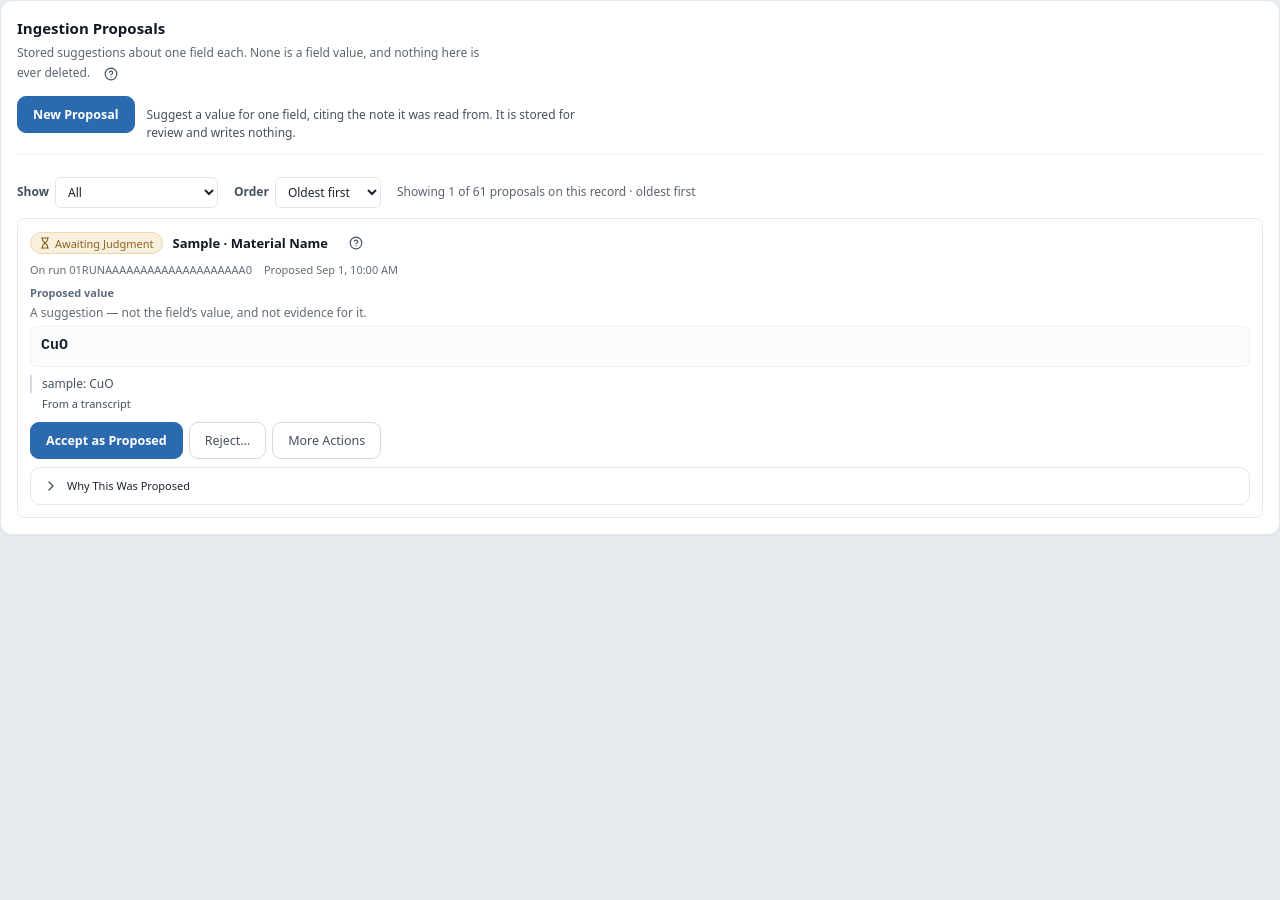
Scenario: a failed view change is named as unapplied for every view dimension › DEFECT/COVERAGE: a FILTER change whose read fails says it was never applied, not that it is stale
The image size is (1280, 900).
Expected: the text "Showing 1 of 61 proposals on this record · oldest first" is shown, [397, 184, 696, 202]
Select "Awaiting judgment (1)" in the dropdown labelled "Show". click: (136, 193)
box: [55, 177, 218, 208]
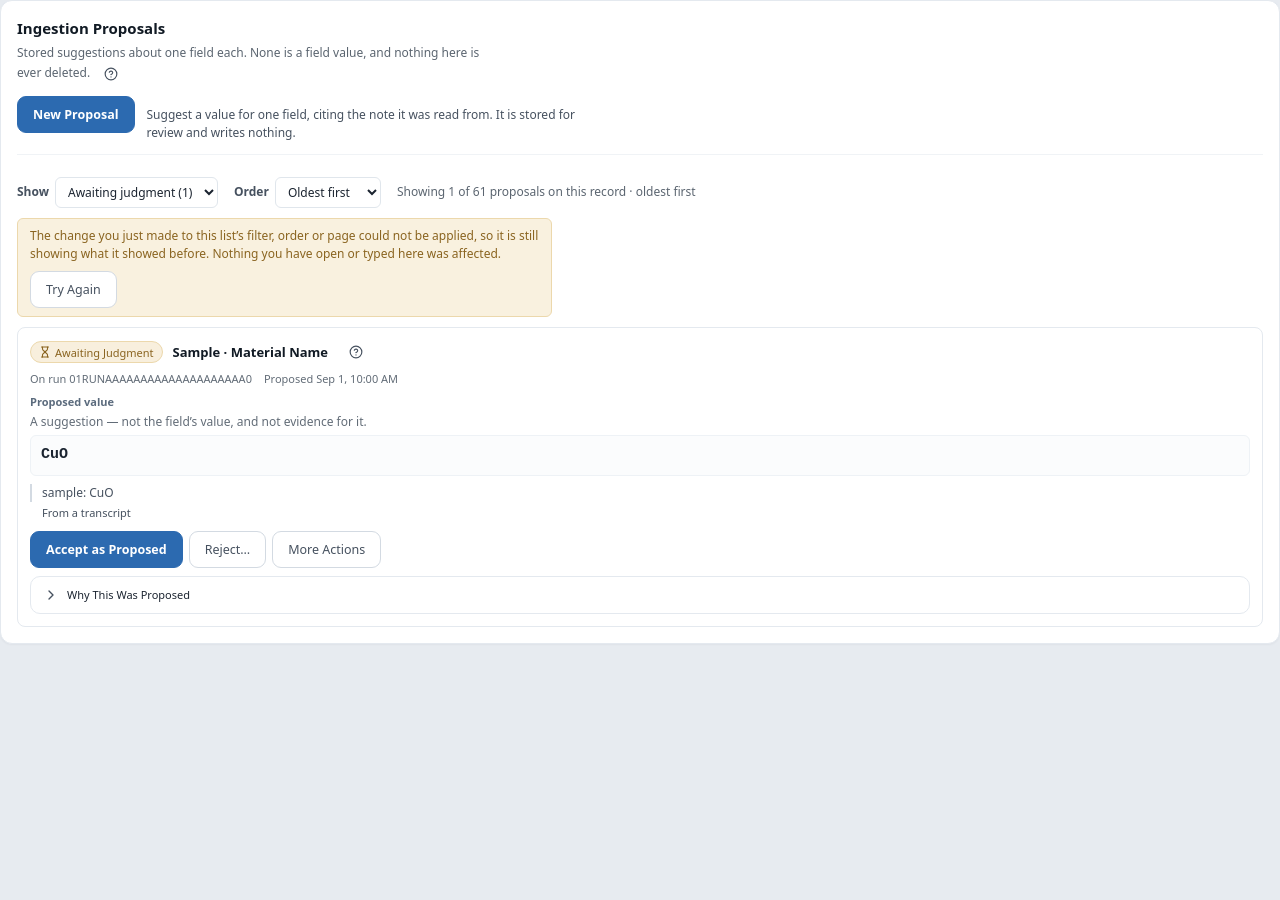
Expected: the text "could not be applied, so it is still showing what it showed before" is shown, [30, 227, 538, 262]
